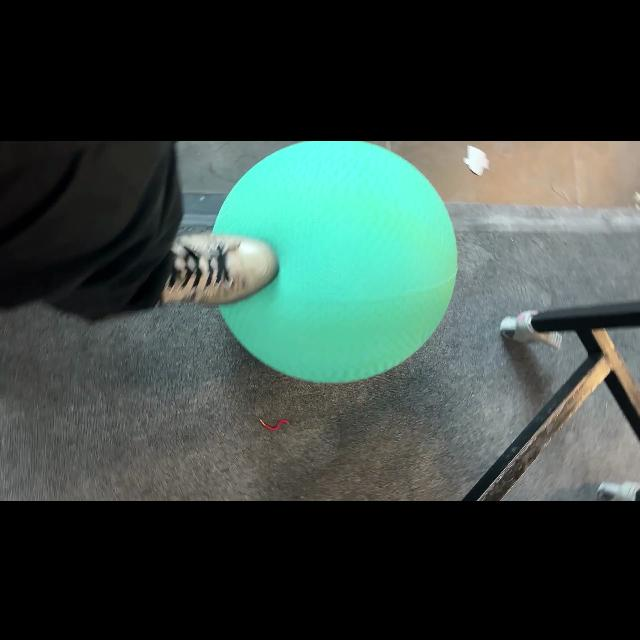ALGAE: (211, 141, 459, 383)
